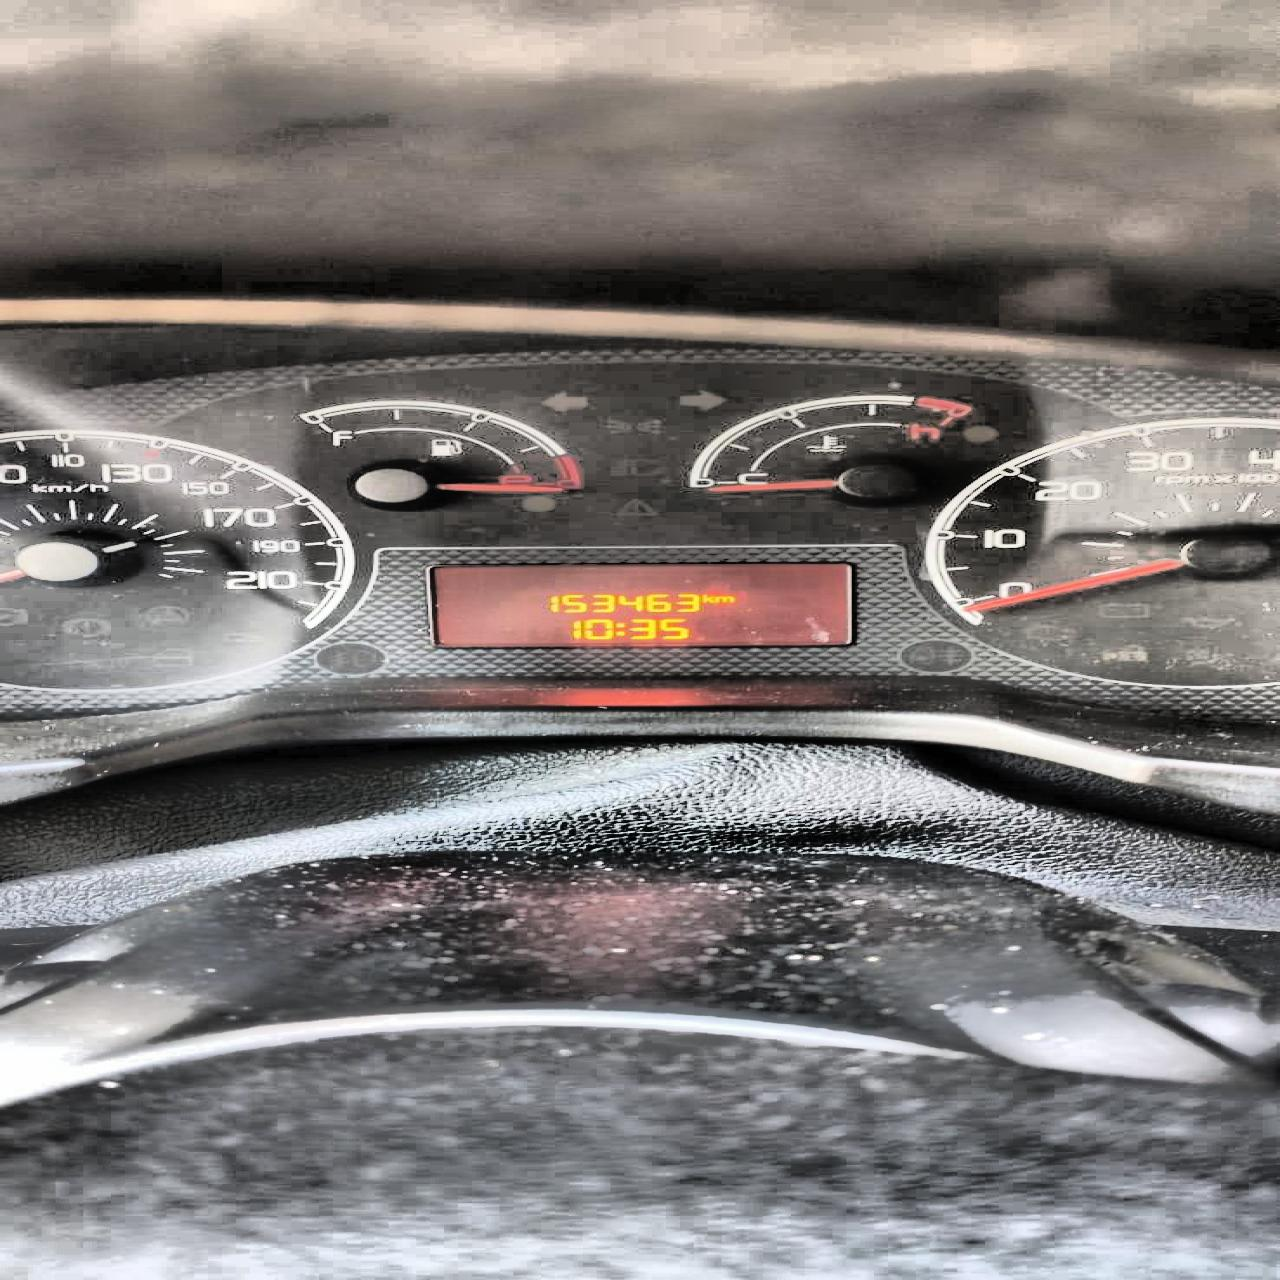1: (567, 619, 581, 640), (549, 594, 559, 612)
3: (629, 618, 655, 639), (586, 593, 612, 612), (675, 593, 697, 612)
4: (615, 594, 641, 612)
5: (658, 618, 688, 639), (558, 593, 585, 613)
6: (645, 593, 669, 613)
X: (612, 620, 626, 636), (701, 593, 716, 604), (716, 594, 734, 602)
odometer: (415, 558, 867, 648)
